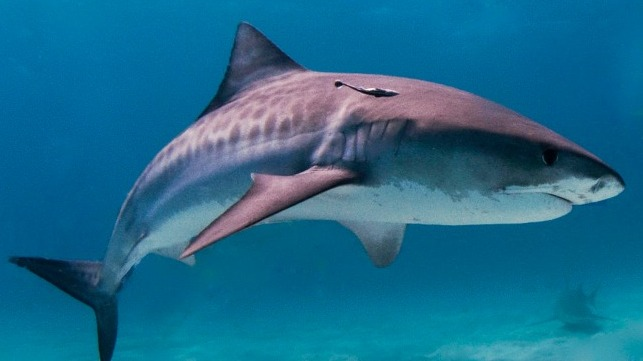shark: (12, 19, 628, 361)
